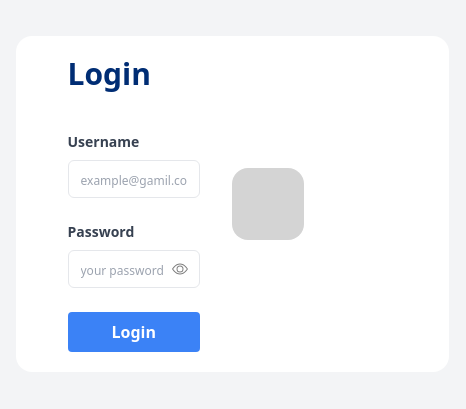
Test: LoginPage › shows success message with valid credentials
Type "John Doe" into the field labelled "Username" at (134,179), box left=68, top=160, right=200, bottom=198
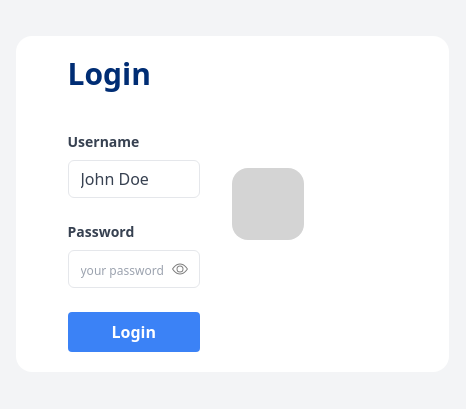
Type "johndoe@123" into the password field labelled "Password" at (134,269), box left=68, top=250, right=200, bottom=288
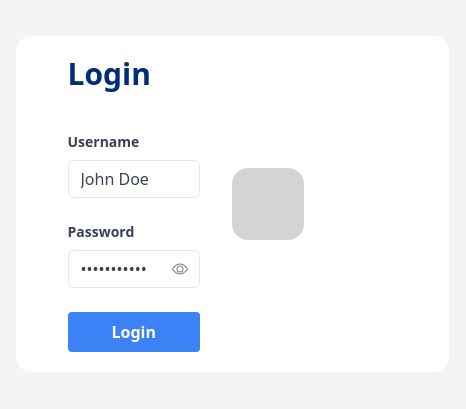
Click the button "Login" at (134,332), box left=68, top=312, right=200, bottom=352
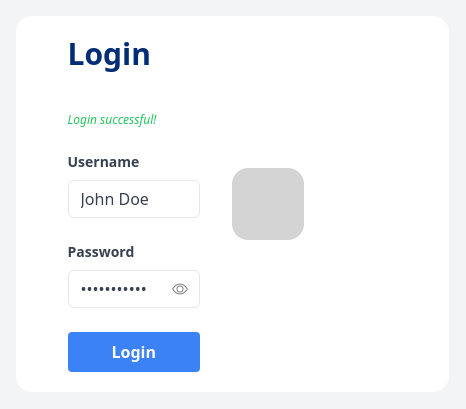
Now the text "Login successful!" is shown, box left=68, top=111, right=156, bottom=128
